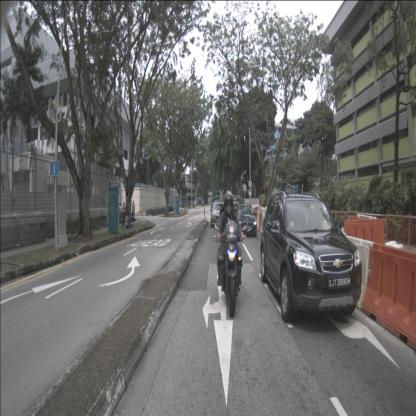human-pedestrian-adult: (211, 200, 213, 213), (194, 199, 196, 208), (193, 199, 195, 208)
movable_object-barrier: (362, 243, 416, 352), (323, 232, 374, 309), (344, 217, 387, 255), (260, 213, 270, 235), (257, 213, 263, 234), (256, 210, 260, 230), (253, 210, 257, 226)
vehicle-car: (260, 190, 362, 322), (236, 203, 257, 237), (210, 202, 228, 227), (225, 195, 242, 214)
vehicle-motorcycle: (214, 191, 247, 318)
